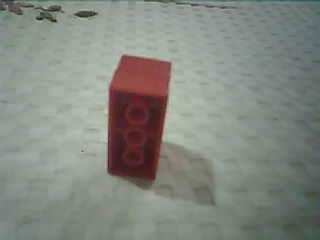lego: (105, 53, 172, 180)
